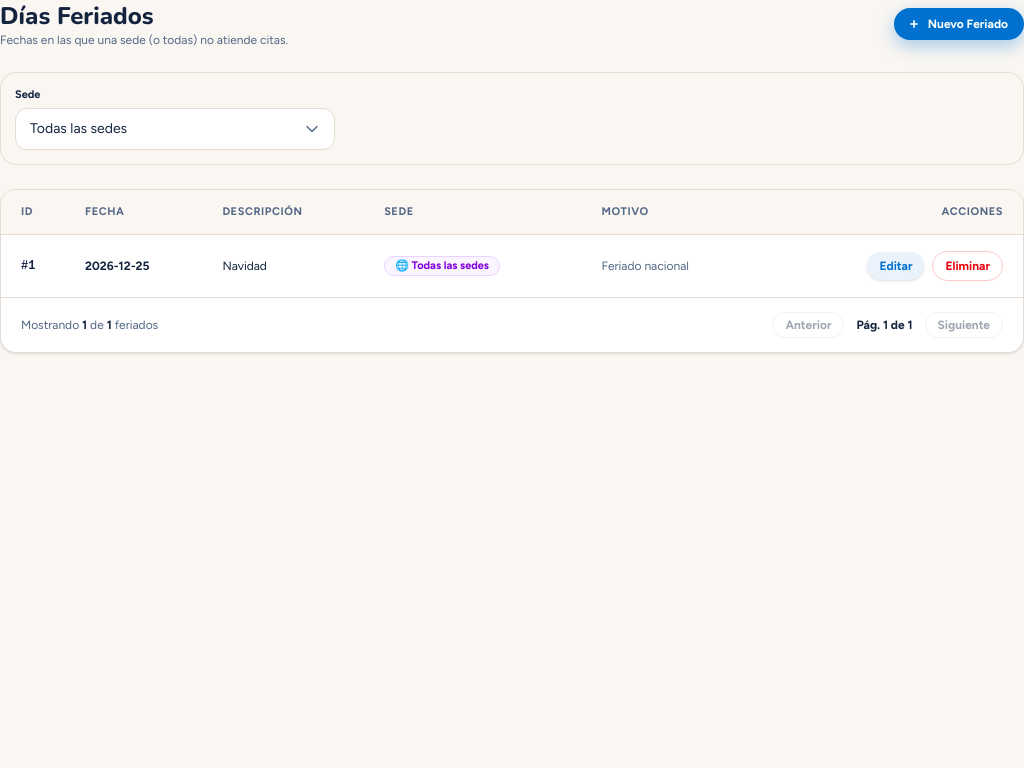
it: HolidayListComponent › edits a holiday and reloads the list
The width and height of the screenshot is (1024, 768).
Click the button "Editar" at x=896, y=266, box [867,252,924,280]
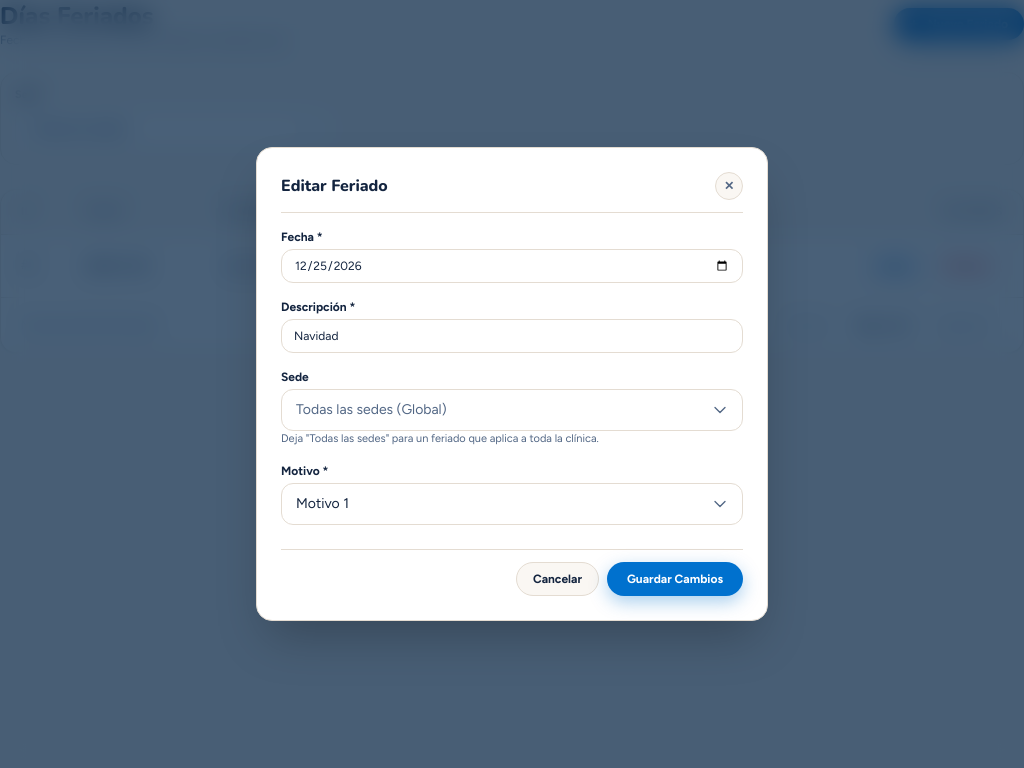
Replace the text in the field with id "holidayDescription" with "Navidad (actualizado)" at x=512, y=336, box [281,319,743,353]
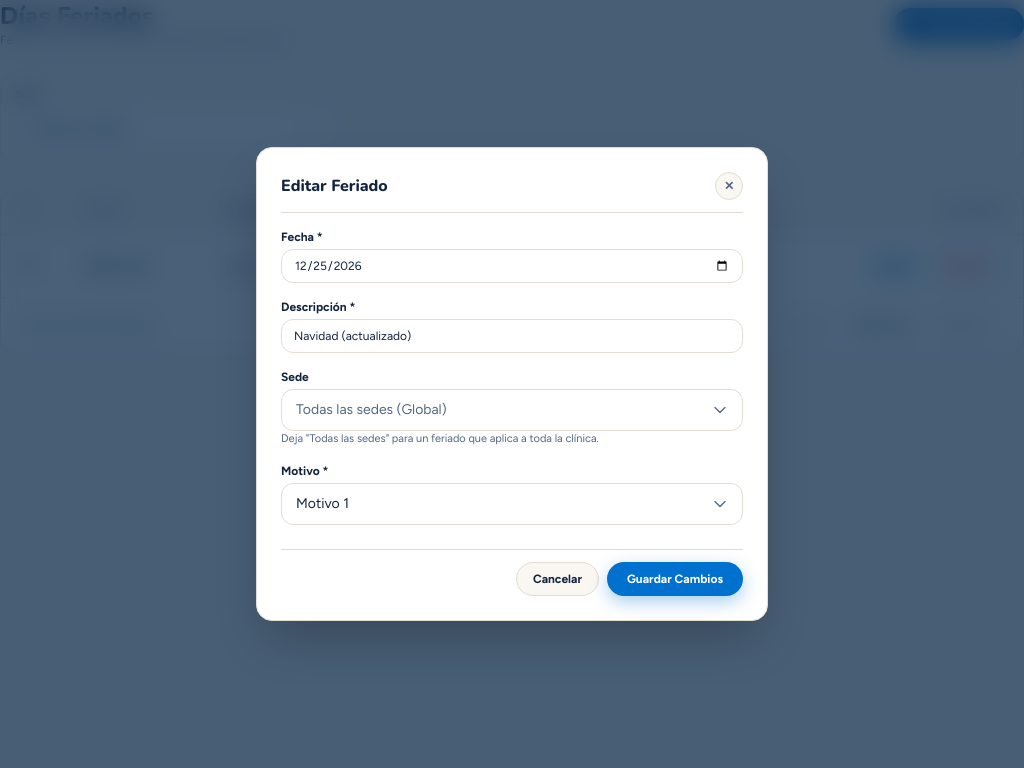
Submit the form, box [281,229,743,596]
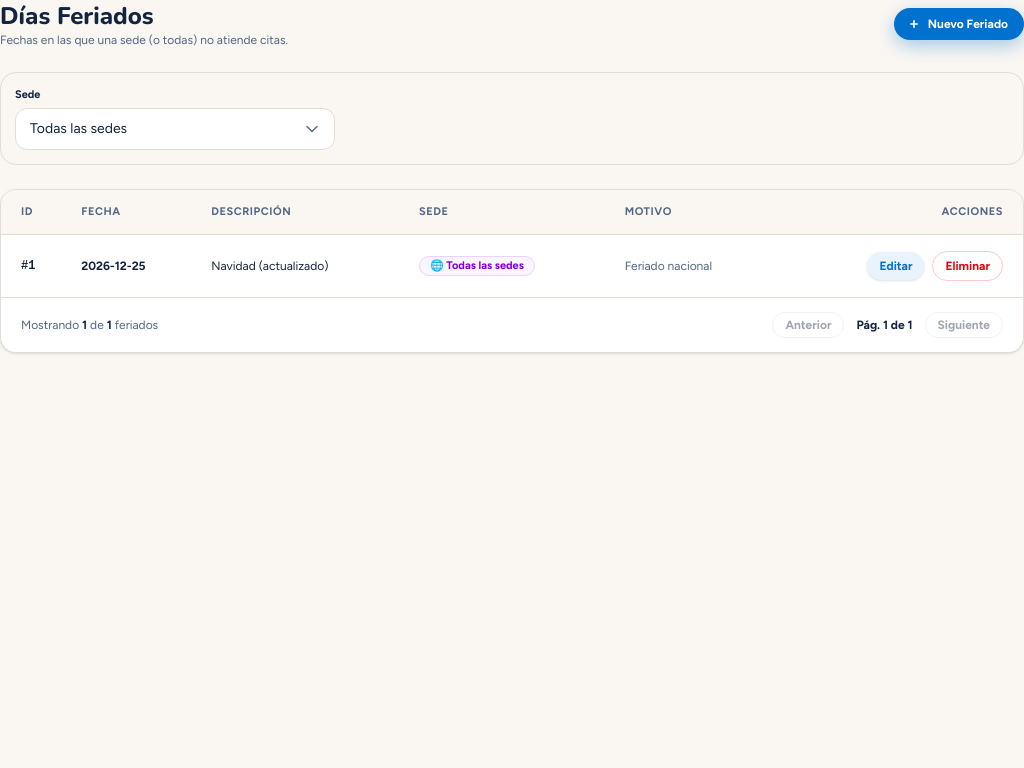
Expected: the text "Navidad (actualizado)" is shown, [199,234,407,297]
